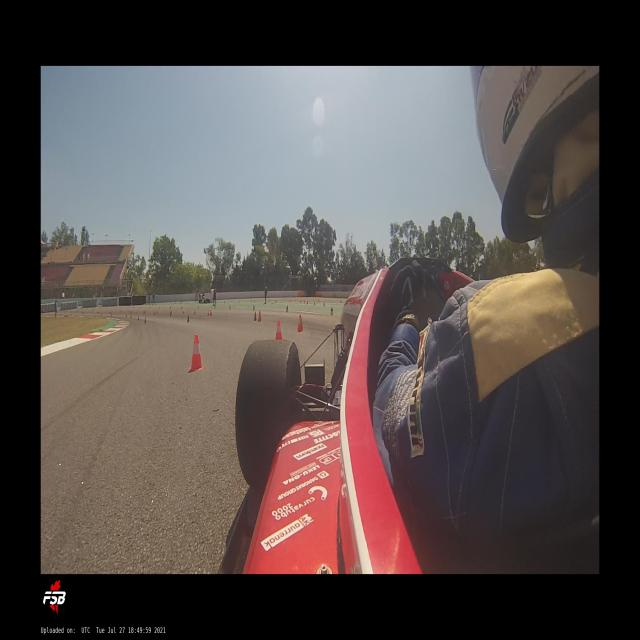orange_cone: (188, 334, 206, 372), (274, 320, 284, 340), (297, 316, 304, 332), (258, 310, 262, 321), (194, 310, 196, 314), (208, 310, 209, 316)
unknown_cone: (254, 311, 258, 321), (187, 315, 190, 322), (144, 316, 146, 324), (210, 310, 212, 316), (138, 316, 139, 320)
yellow_cone: (330, 306, 334, 316), (286, 306, 289, 312), (253, 306, 255, 312), (229, 305, 231, 310)
